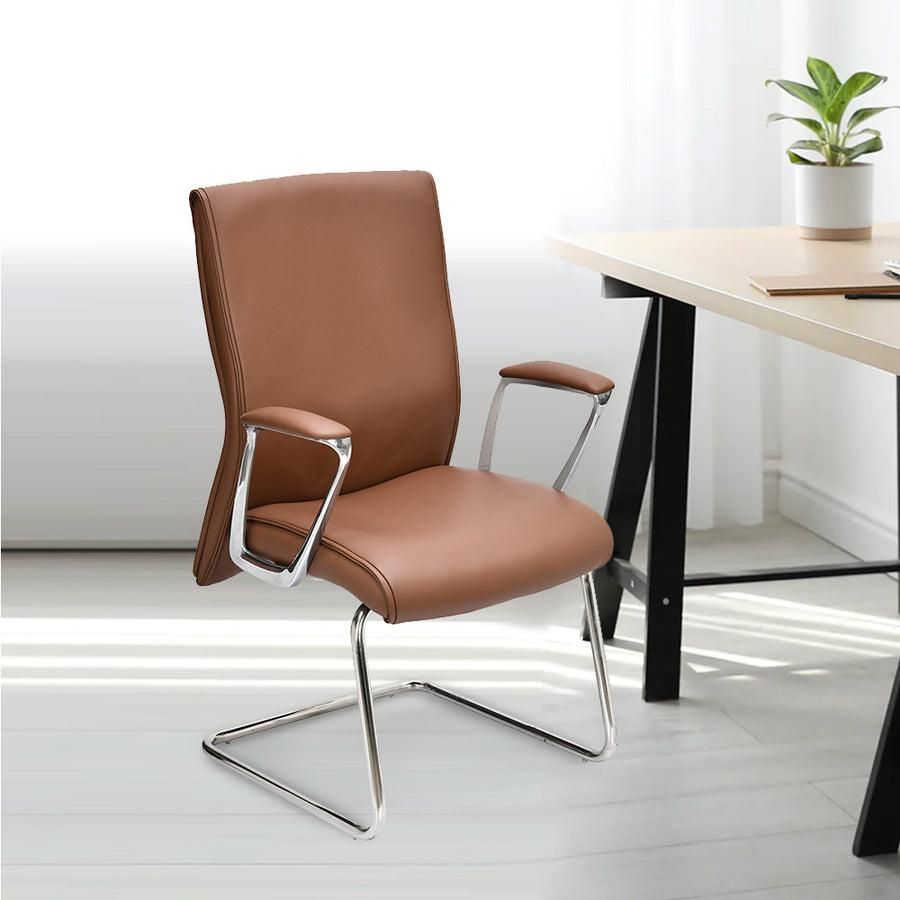chair: (130, 153, 645, 843)
